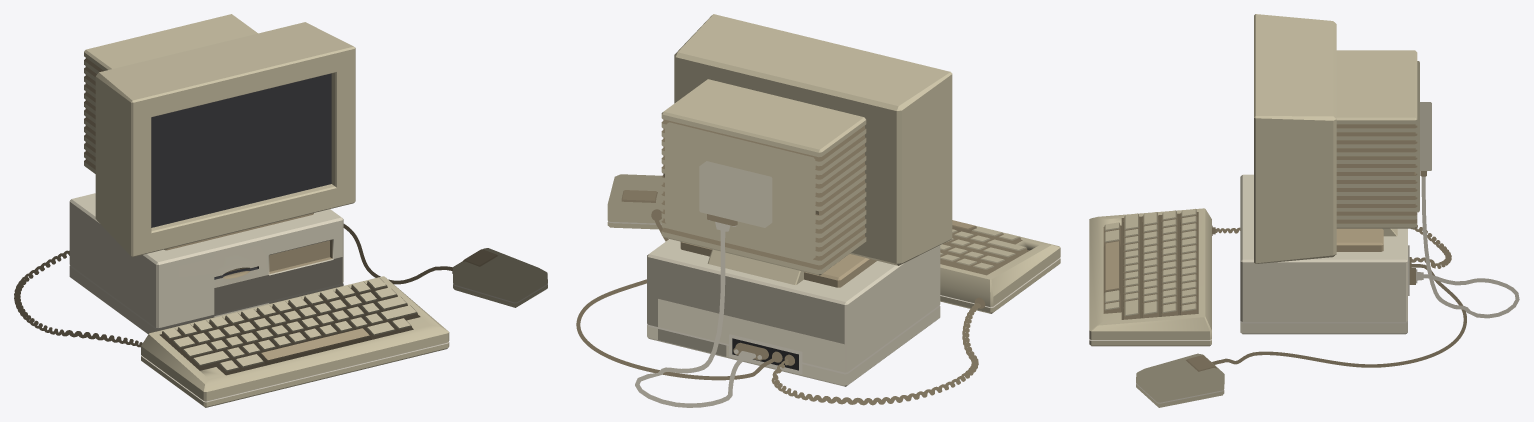
The model's file is mac.glb.
The picture shows the model from 3 angles, left to right: view 1: azimuth 30°, elevation 25°; view 2: azimuth 150°, elevation 25°; view 3: azimuth 270°, elevation 25°; orthographic projection. The views are drawn at different scales.
Parts seen in each view (by area): view 1: Object_2, Object_3, Object_9, Object_4, Object_5, Object_6, Object_8, Object_7; view 2: Object_2, Object_9, Object_4, Object_8, Object_5, Object_7, Object_6, Object_3; view 3: Object_2, Object_9, Object_4, Object_7, Object_8, Object_6, Object_5.
Part boxes in pixels (left/top/right/bottom): Object_2: left=84, top=14, right=547, bottom=407; Object_3: left=151, top=73, right=331, bottom=279; Object_9: left=69, top=193, right=343, bottom=334; Object_4: left=84, top=58, right=496, bottom=375; Object_5: left=14, top=250, right=479, bottom=371; Object_6: left=159, top=240, right=497, bottom=365; Object_8: left=70, top=265, right=547, bottom=402; Object_7: left=223, top=224, right=497, bottom=284; Object_2: left=607, top=14, right=1060, bottom=313; Object_9: left=647, top=161, right=940, bottom=386; Object_4: left=622, top=119, right=1027, bottom=287; Object_8: left=608, top=220, right=1060, bottom=407; Object_5: left=622, top=119, right=1003, bottom=405; Object_7: left=576, top=191, right=985, bottom=380; Object_6: left=622, top=191, right=1029, bottom=365; Object_3: left=732, top=338, right=798, bottom=370; Object_2: left=1089, top=14, right=1419, bottom=407; Object_9: left=1240, top=102, right=1431, bottom=334; Object_4: left=1103, top=124, right=1417, bottom=369; Object_7: left=1121, top=171, right=1466, bottom=367; Object_8: left=1089, top=176, right=1519, bottom=403; Object_6: left=1103, top=171, right=1426, bottom=371; Object_5: left=1104, top=124, right=1451, bottom=370.
Size of what is drawn, in the model's own units: 56.68 by 30.89 by 52.68.
